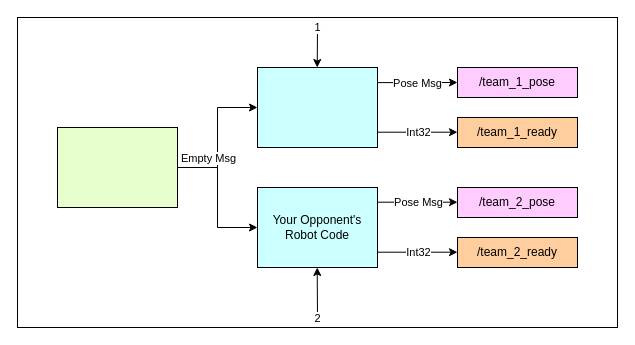
This 635x345 diagram has some shape labels left out. The box of each missing label's shape, as (x1, y1, x2, y2) in pixels:
/CompetitionStart: (56, 126, 178, 208)
Your Robot Code: (256, 66, 378, 148)
